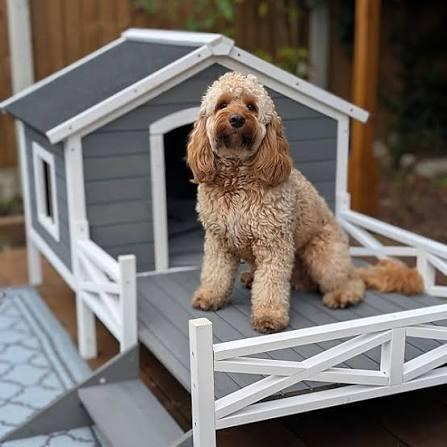adult_dog: (186, 74, 424, 334)
